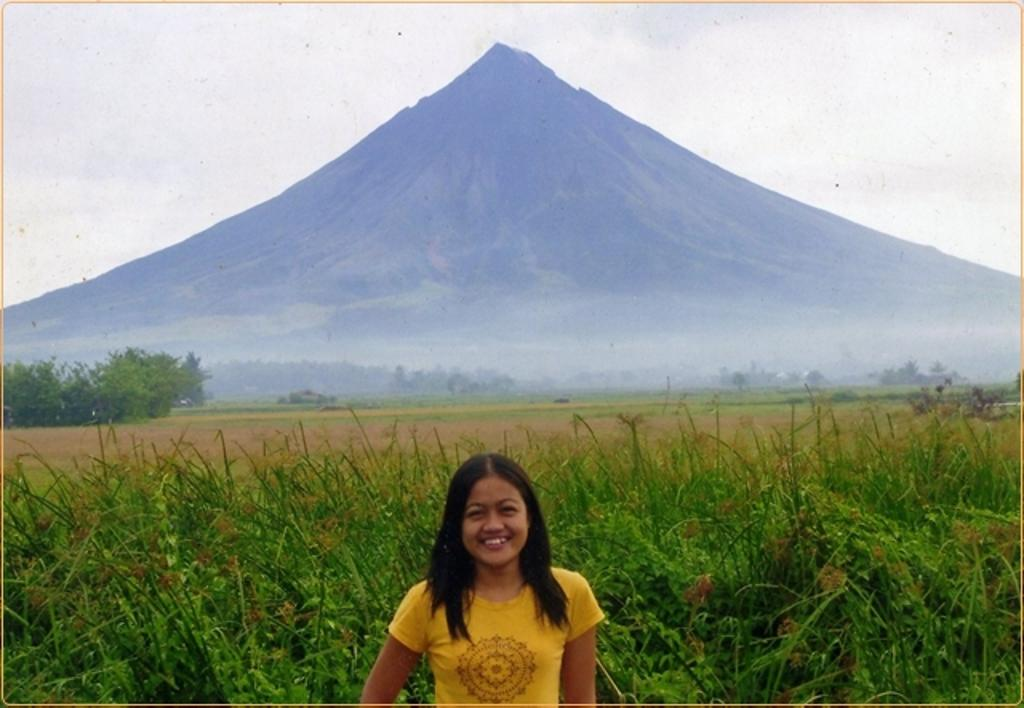face: (464, 474, 532, 572)
